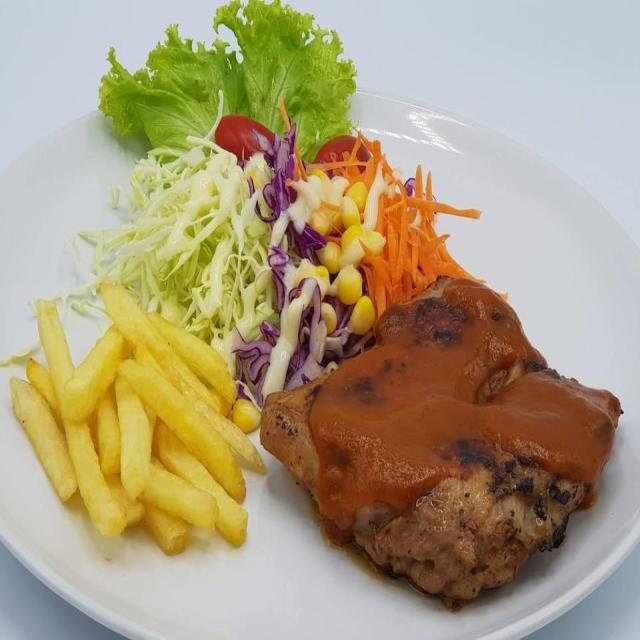Carbohydrate: (14, 284, 267, 558)
Protein: (262, 269, 619, 614)
Steak: (5, 64, 634, 640)
Vegetable: (67, 0, 469, 404)
